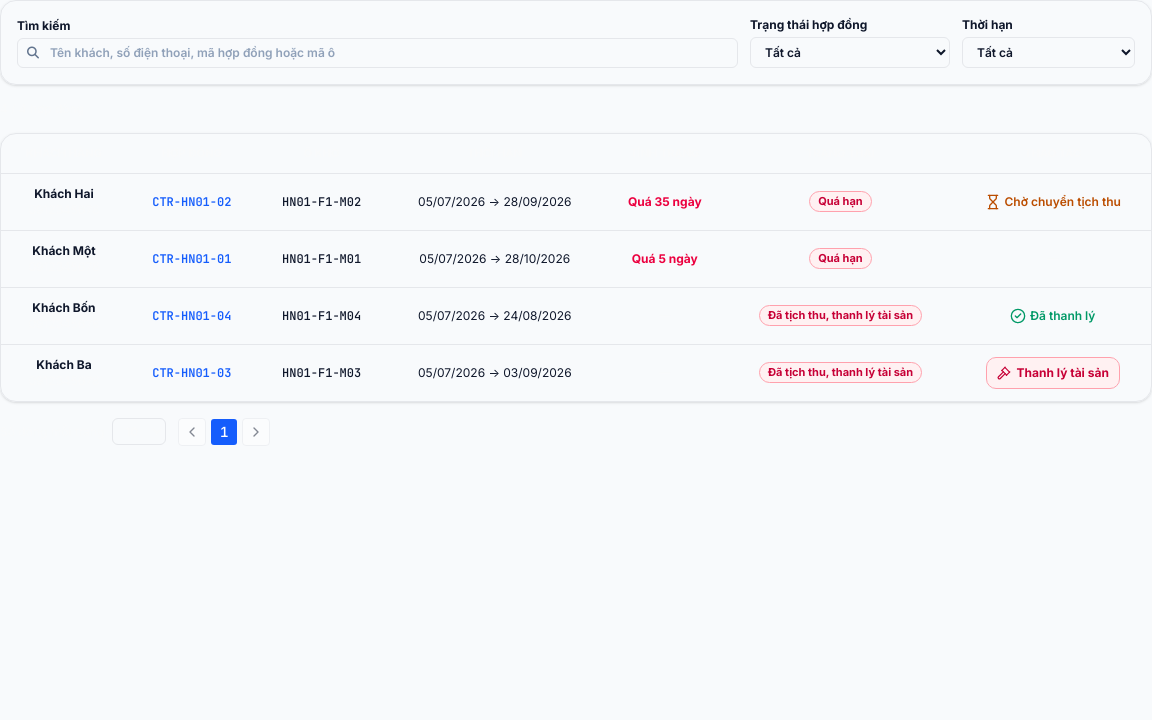
Test case: Quản lí hợp đồng: thanh lý tài sản quá hạn › từ hộp thoại chi tiết: hợp đồng đã tịch thu có nút thanh lý, bấm thì chuyển sang hộp thoại thanh lý
Expected: the text "Khách Ba" is shown, 36,357 -> 92,372
Step 1. Click the button with aria-label "Xem chi tiết hợp đồng CTR-HN01-03" → (192, 373), box 152,365 -> 231,381
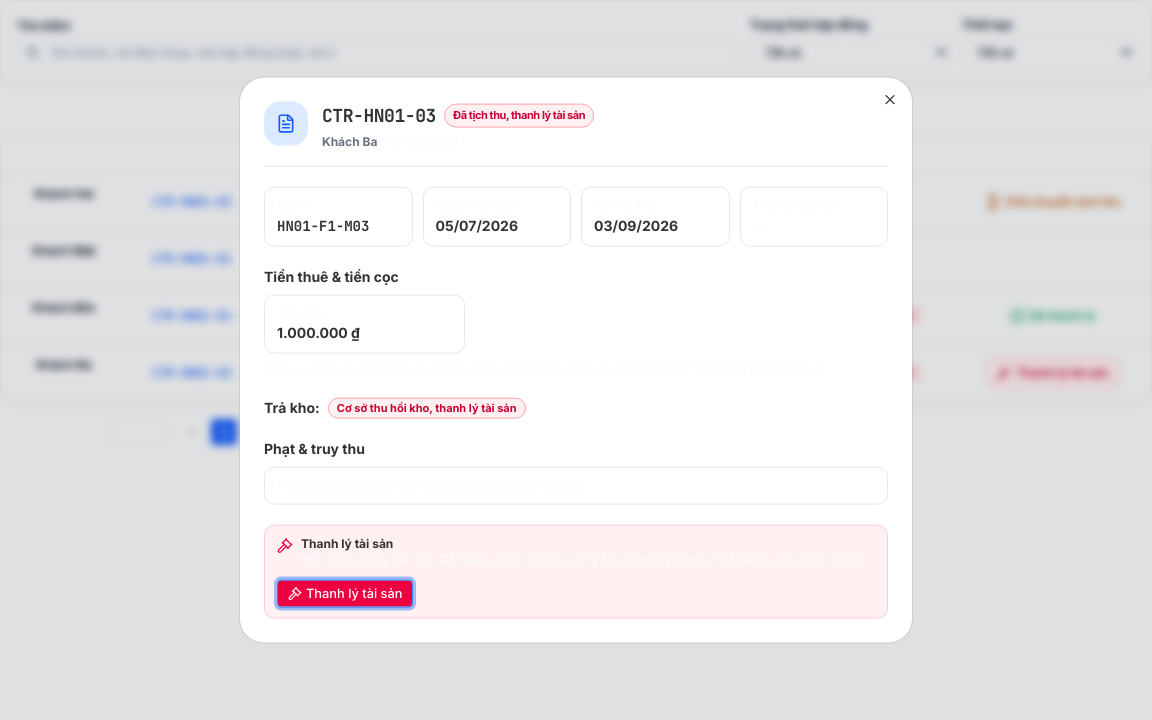
Step 2. Click the button "Thanh lý tài sản" → (345, 593), box 277,579 -> 413,607
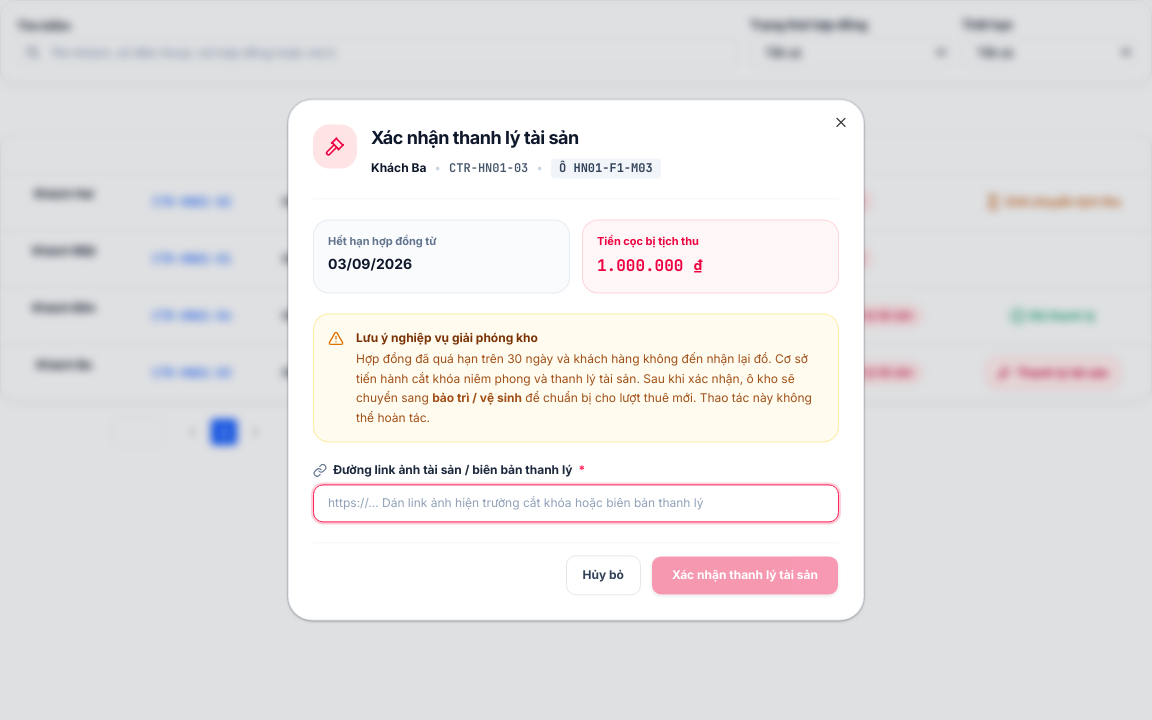
Expected: the button "Xác nhận thanh lý tài sản" is shown, 651,556 -> 839,596
